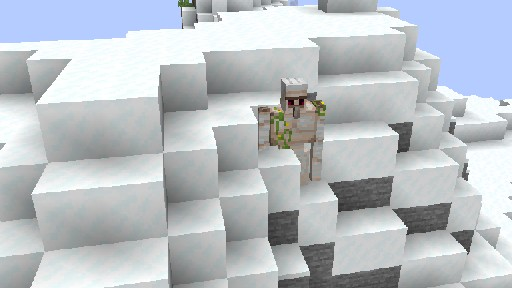iron_golem: (255, 76, 325, 193)
